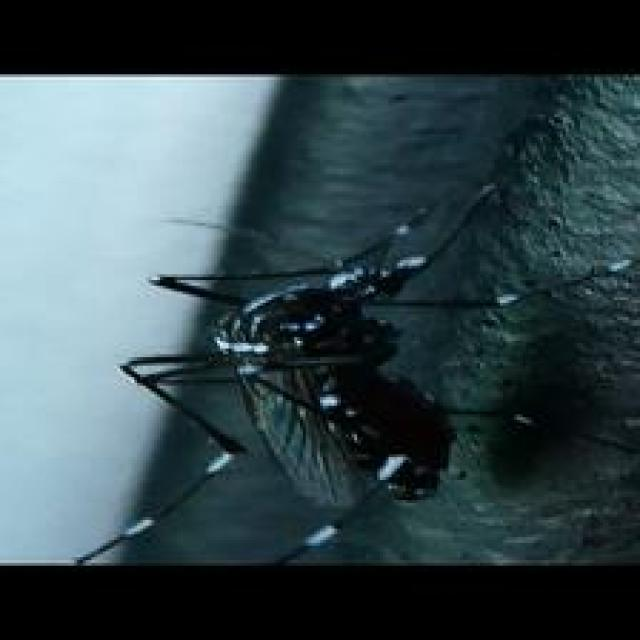Aedes albopictus: (73, 176, 638, 564)
